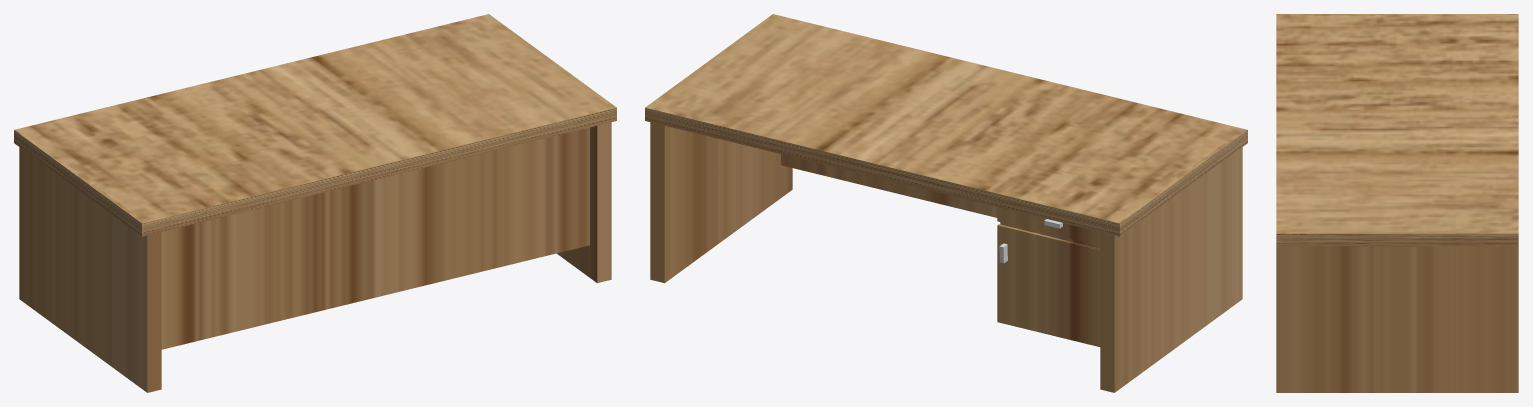
The model's file is meja3.glb.
The picture shows the model from 3 angles, left to right: view 1: azimuth 30°, elevation 25°; view 2: azimuth 150°, elevation 25°; view 3: azimuth 270°, elevation 25°; orthographic projection. The views are drawn at different scales.
Parts seen in each view (by area): view 1: Cube; view 2: Cube, Cube.001; view 3: Cube.
Boxes of the visible parts, x1=… form: Cube: x1=14, y1=14, x2=616, y2=392; Cube: x1=645, y1=14, x2=1247, y2=392; Cube.001: x1=997, y1=207, x2=1100, y2=346; Cube: x1=1276, y1=14, x2=1518, y2=392.
Size of the model in its own units: 2.43 by 0.8344 by 1.13.
Materials: 1 (1 with a texture image).
